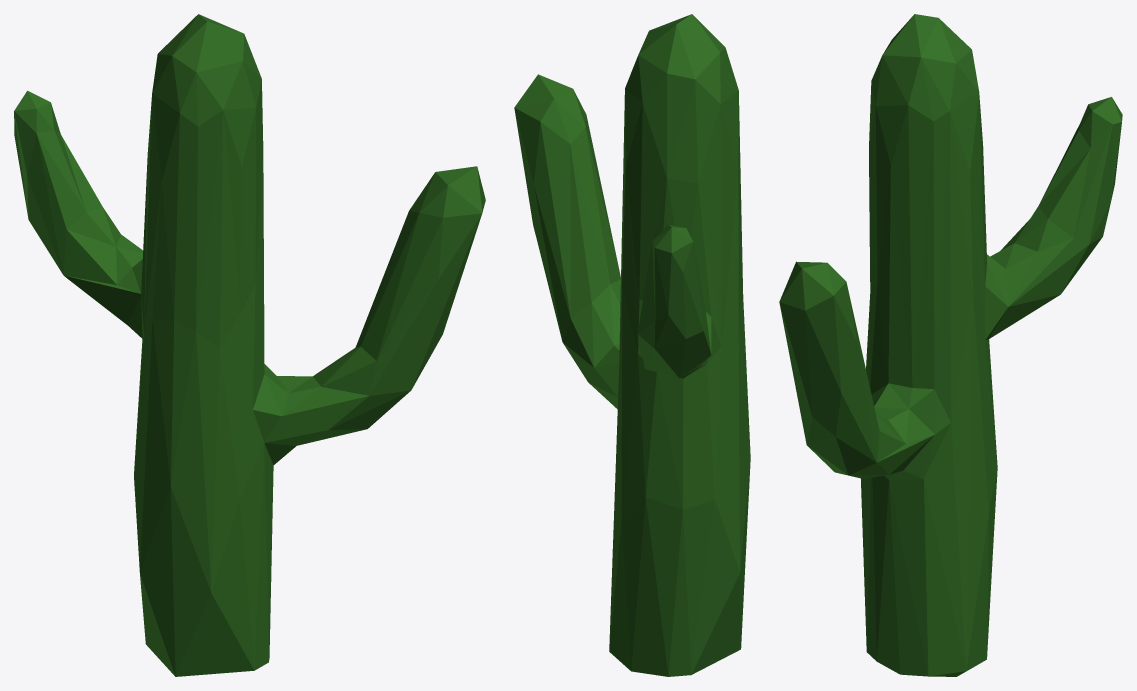
Rendered from SM_cactus_03.fbx.
3 renders of one model, left to right at view 1: azimuth 30°, elevation 25°; view 2: azimuth 150°, elevation 25°; view 3: azimuth 270°, elevation 25°, orthographic.
Visible parts, largest first — view 1: Object218; view 2: Object218; view 3: Object218.
Boxes of the visible parts, bbox=[...] form: Object218: bbox=[14, 14, 485, 676]; Object218: bbox=[514, 14, 750, 676]; Object218: bbox=[779, 14, 1122, 676].
Size of the model in its own units: 39.12 by 36.91 by 75.85.
